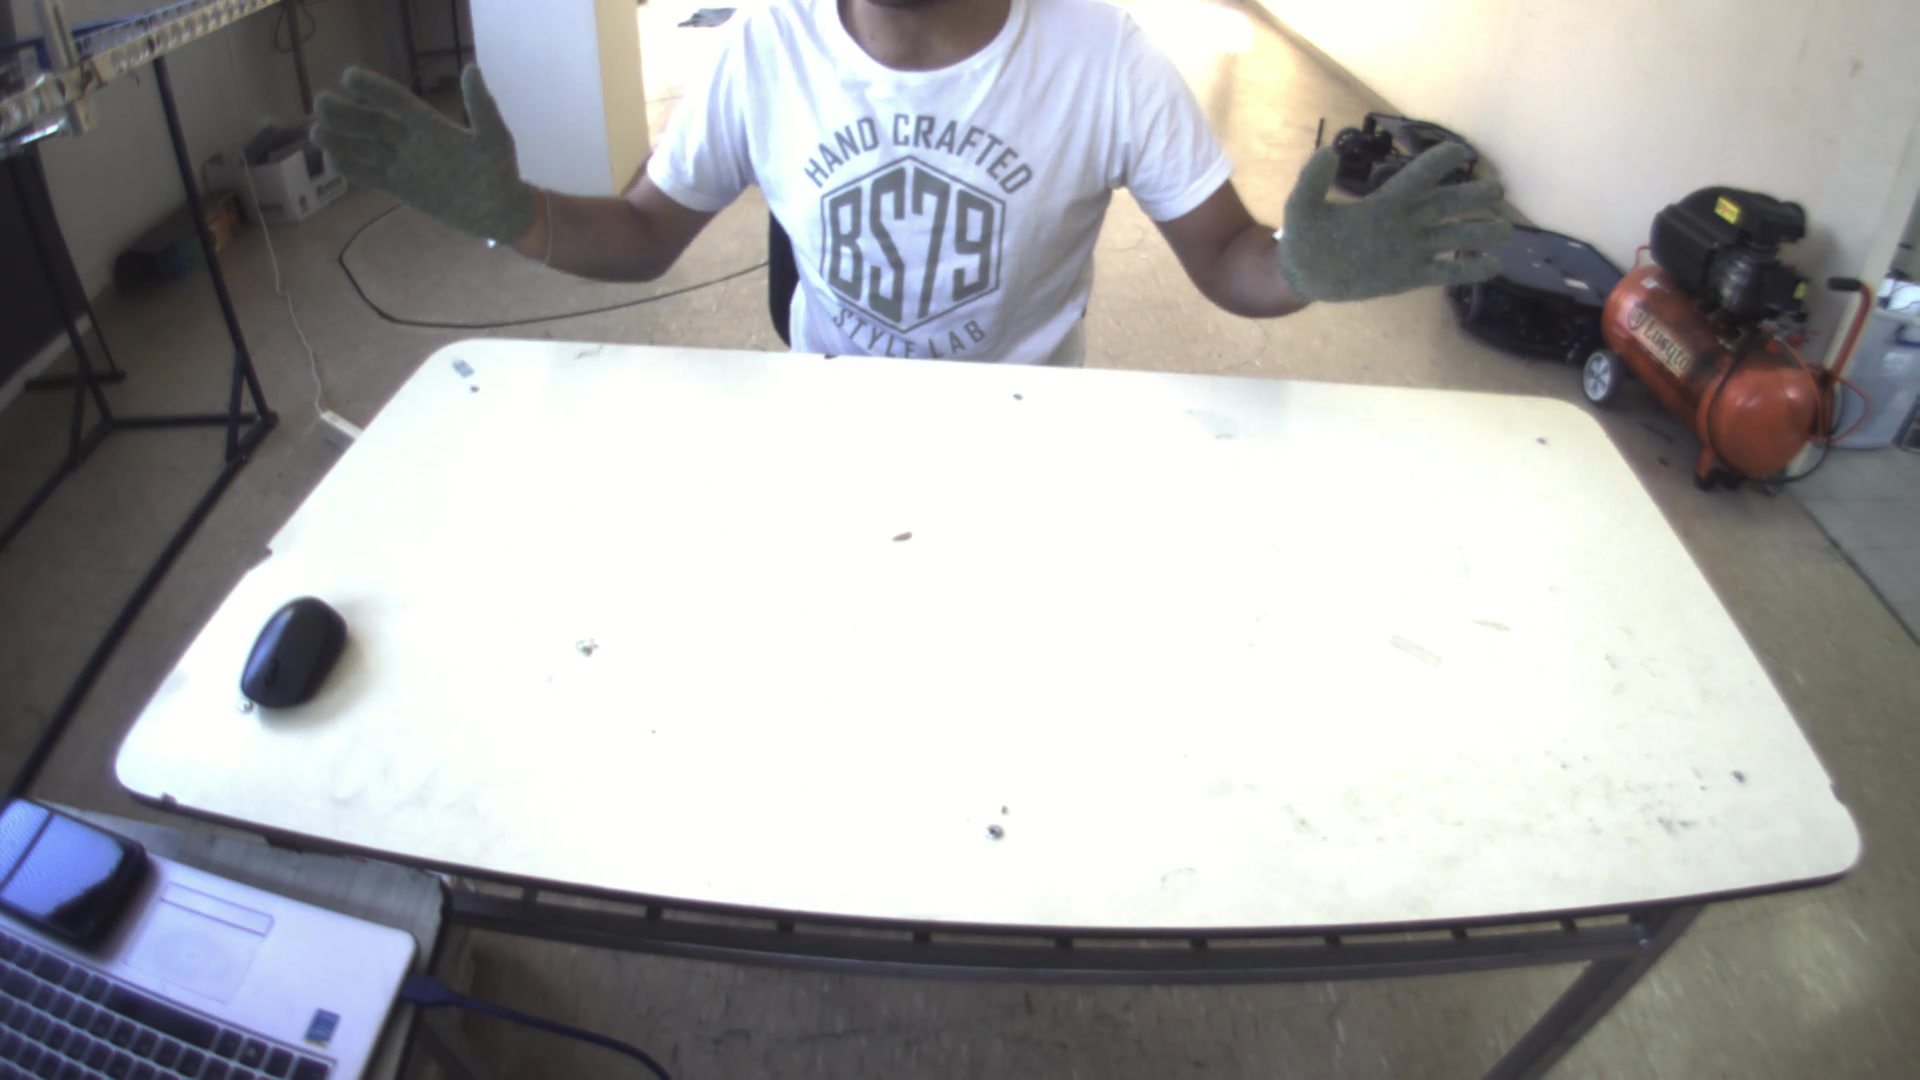hand: (1276, 115, 1534, 305), (295, 50, 534, 237)
